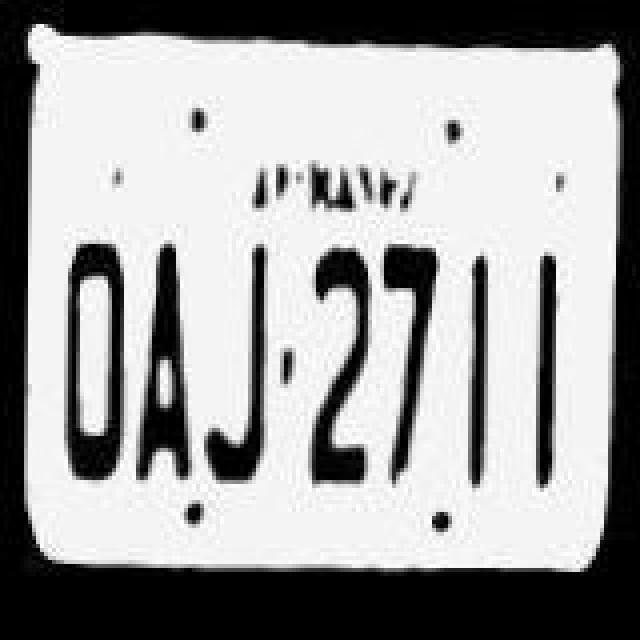1: (520, 248, 576, 496), (448, 250, 504, 498)
2: (302, 240, 378, 492)
7: (378, 232, 446, 500)
A: (128, 234, 200, 486)
J: (204, 228, 284, 488)
O: (52, 236, 132, 492)
